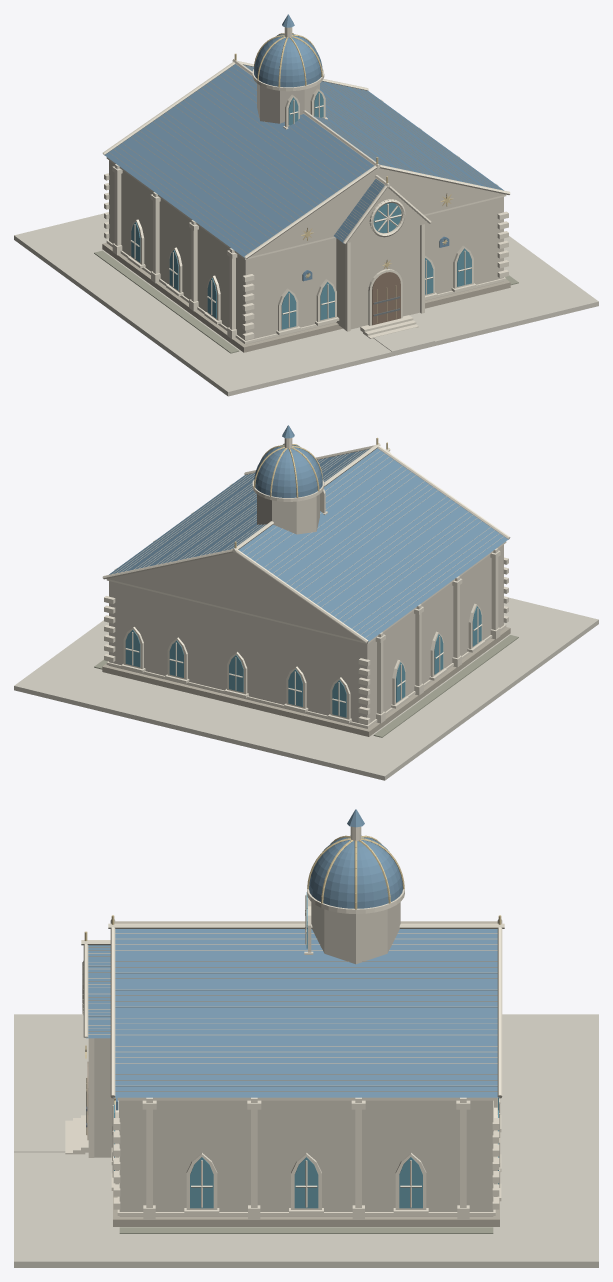
Rendered from ArcaneAcademy_Lv2.fbx.
3 renders of one model, top to bottom at view 1: azimuth 30°, elevation 25°; view 2: azimuth 150°, elevation 25°; view 3: azimuth 270°, elevation 25°, orthographic. The views are drawn at different scales.
Parts seen in each view (by area): view 1: Roof surfaces.015, Fixed 26m plot.015, Main school walls.015, Roof courses.010, Gable infill.010, Projecting entrance bay.015, Window glass.015, School foundation.015, Blue central dome.004, Gable verge.010, Window frame.015, Decor side pilasters.015 (+13 smaller); view 2: Roof surfaces.015, Fixed 26m plot.015, Main school walls.015, Gable infill.010, Roof courses.010, School foundation.015, Window glass.015, Blue central dome.004, Window frame.015, Decor side pilasters.015, Gable verge.010, Octagonal observatory drum.004 (+7 smaller); view 3: Roof surfaces.015, Fixed 26m plot.015, Main school walls.015, Roof courses.010, Blue central dome.004, School foundation.015, Octagonal observatory drum.004, Window glass.015, Decor side pilasters.015, Gable verge.010, Grass edging.015, Stone stringcourse.015 (+13 smaller).
Part boxes in pixels (box(x1,y1,x2,y2)): Roof surfaces.015: box(104, 64, 503, 257); Fixed 26m plot.015: box(14, 213, 598, 396); Main school walls.015: box(109, 160, 503, 344); Roof courses.010: box(109, 65, 500, 253); Gable infill.010: box(250, 168, 505, 256); Projecting entrance bay.015: box(336, 225, 419, 329); Window glass.015: box(131, 91, 471, 329); School foundation.015: box(102, 243, 510, 352); Blue central dome.004: box(254, 34, 322, 87); Gable verge.010: box(102, 61, 510, 259); Window frame.015: box(130, 88, 473, 331); Decor side pilasters.015: box(114, 99, 498, 329); Roof surfaces.015: box(109, 448, 508, 641); Fixed 26m plot.015: box(14, 597, 598, 780); Main school walls.015: box(109, 545, 503, 728); Gable infill.010: box(107, 552, 362, 641); Roof courses.010: box(112, 449, 503, 637); School foundation.015: box(102, 627, 510, 736); Window glass.015: box(125, 606, 481, 717); Blue central dome.004: box(254, 444, 322, 497); Window frame.015: box(123, 489, 482, 719); Decor side pilasters.015: box(114, 483, 498, 714); Gable verge.010: box(102, 445, 510, 643); Octagonal observatory drum.004: box(257, 494, 319, 534); Roof surfaces.015: box(86, 929, 499, 1097); Fixed 26m plot.015: box(14, 1014, 598, 1267); Main school walls.015: box(119, 1100, 493, 1216); Roof courses.010: box(88, 921, 497, 1091); Blue central dome.004: box(309, 835, 402, 908); School foundation.015: box(113, 1098, 499, 1226); Octagonal observatory drum.004: box(311, 902, 400, 964); Window glass.015: box(114, 892, 498, 1208); Decor side pilasters.015: box(146, 1097, 466, 1207); Gable verge.010: box(83, 919, 502, 1098); Grass edging.015: box(119, 1227, 493, 1233); Stone stringcourse.015: box(117, 1097, 495, 1215).
Bounding box in the file's own units: 26 × 16.42 × 26.
